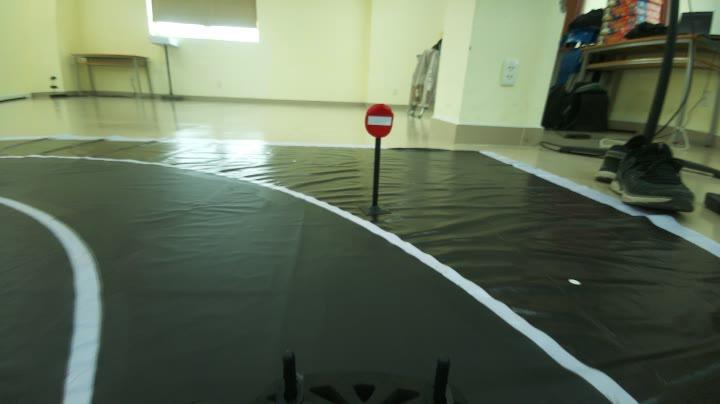no_entry: (360, 99, 400, 142)
